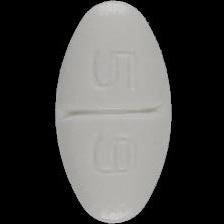68084-539: (0, 0, 224, 224)
